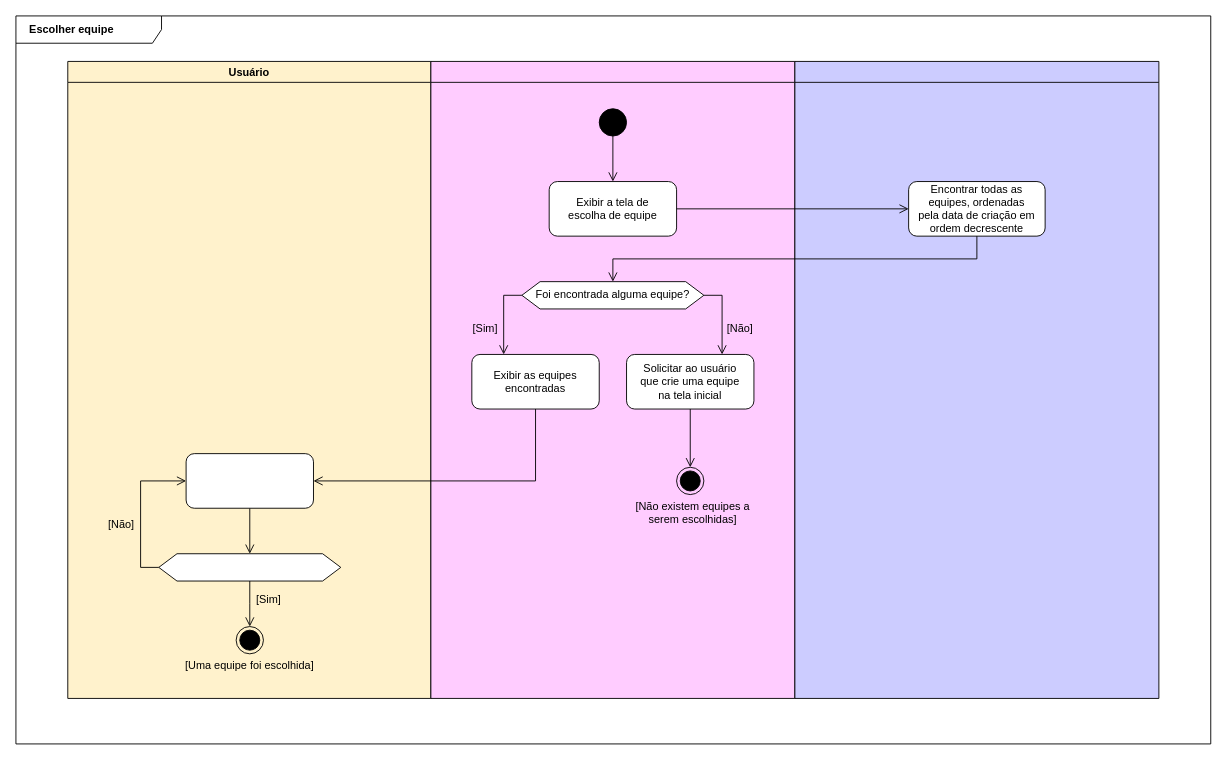
The diagram is 1227 pixels wide and 760 high, and some of its shapes have lost their labels. The box of each missing label's shape, as (x1, y1, x2, y2) in pixels:
Alguma equipe foi escolhida?: (158, 553, 341, 581)
Back-end: (794, 61, 1159, 698)
Escolher uma equipe: (185, 453, 313, 508)
Front-end: (430, 61, 795, 698)
